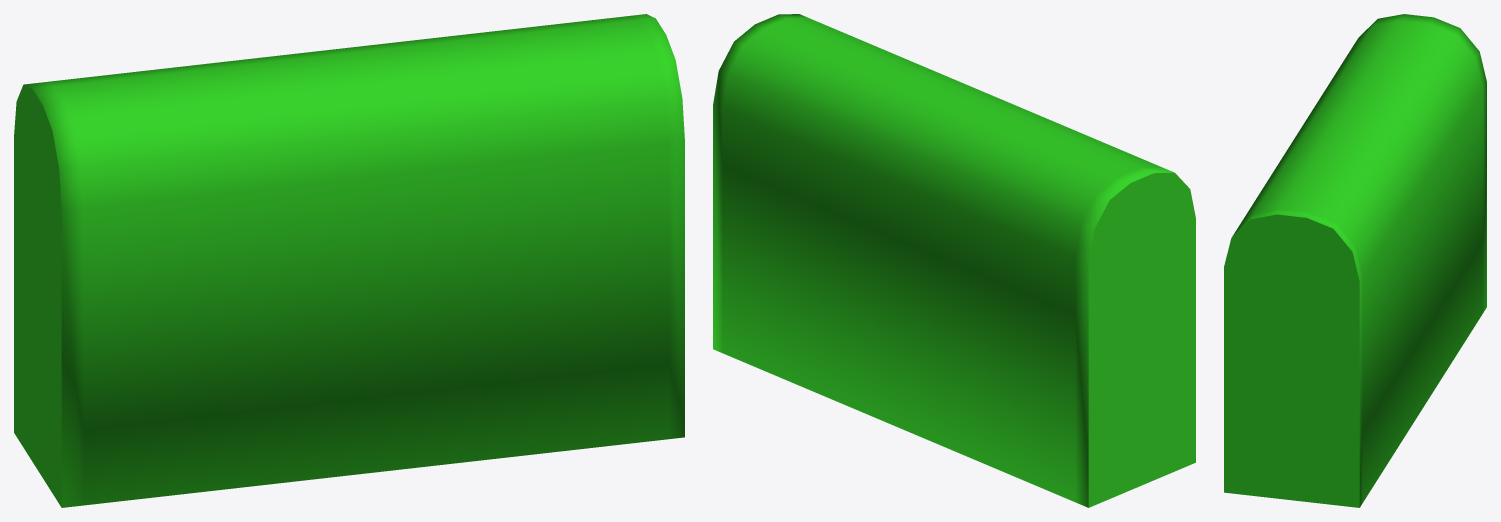
The model's file is NormalContent.fbx.
3 views of the same model, side by side, from view 1: azimuth 30°, elevation 25°; view 2: azimuth 150°, elevation 25°; view 3: azimuth 270°, elevation 25° (orthographic). The views are drawn at different scales.
Parts seen in each view (by area): view 1: Model; view 2: Model; view 3: Model.
Part boxes in pixels (left/top/right/bottom): Model: left=14, top=14, right=684, bottom=507; Model: left=713, top=14, right=1195, bottom=507; Model: left=1224, top=14, right=1486, bottom=507.
Size of what is drawn, in the model's own units: 1.3 by 0.7985 by 0.6692.
